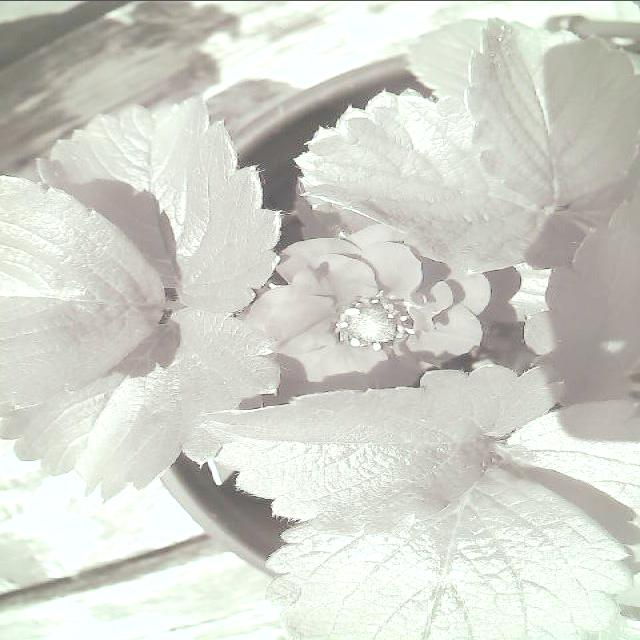flower: (235, 218, 490, 411)
